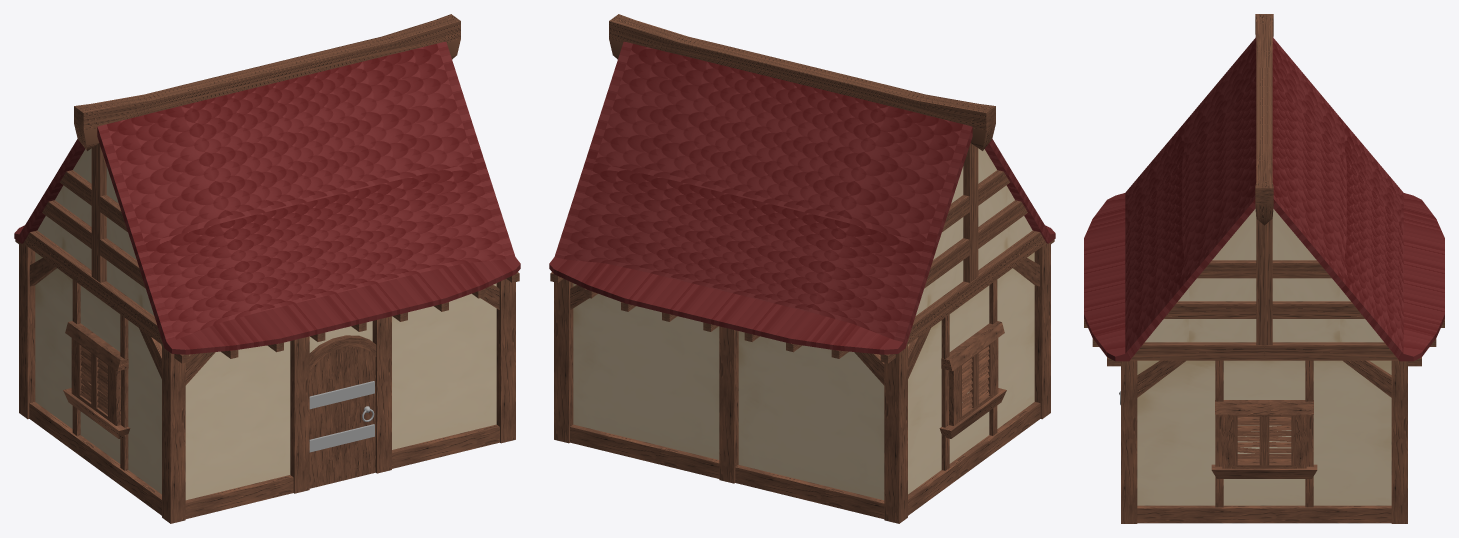
Rendered from House1_FBX.fbx.
3 renders of one model, left to right at view 1: azimuth 30°, elevation 25°; view 2: azimuth 150°, elevation 25°; view 3: azimuth 270°, elevation 25°, orthographic. The views are drawn at different scales.
Parts seen in each view (by area): view 1: House1; view 2: House1; view 3: House1.
Part boxes in pixels (left/top/right/bottom): House1: left=14, top=14, right=520, bottom=523; House1: left=549, top=14, right=1055, bottom=523; House1: left=1084, top=14, right=1444, bottom=523.
Size of the model in its own units: 914 by 840 by 800.
